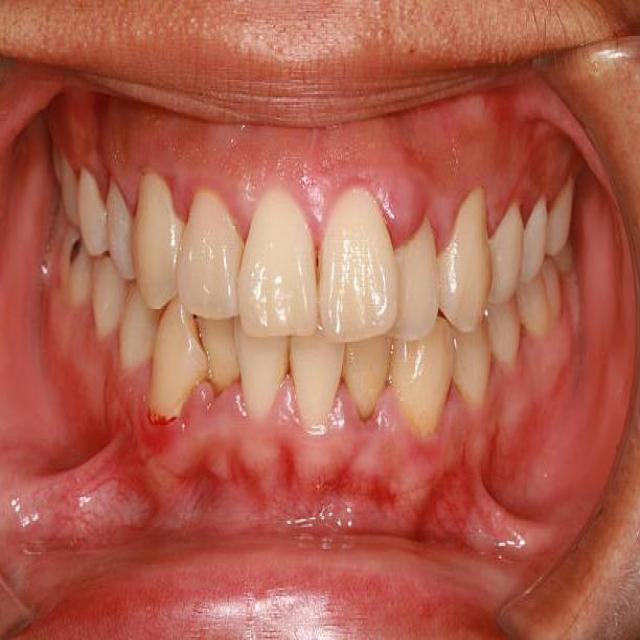bleeding: (142, 395, 180, 456), (375, 374, 402, 437)
swelling: (374, 155, 428, 254), (290, 170, 340, 250), (218, 167, 262, 249), (106, 151, 152, 224), (478, 178, 517, 245), (184, 372, 222, 431)
